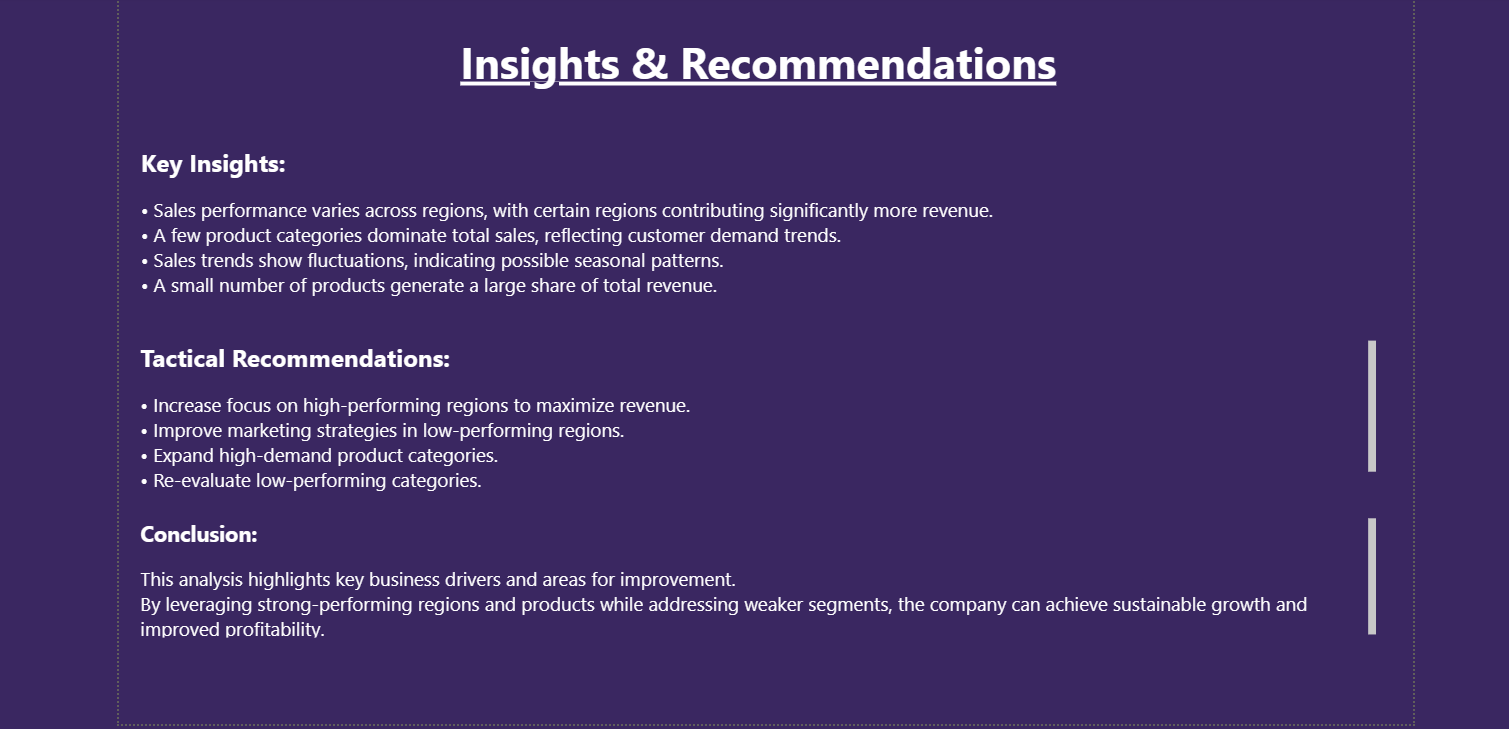

Layout of this report page (visuals, bound fields, positions):
{"tool":"powerbi","page":{"name":"Insights & Recommendations","canvas":[1280,720],"ordinal":1},"visuals":[{"type":"textbox","box":[16,32,1232,80],"z":0},{"type":"textbox","box":[16,144,1232,160],"z":1},{"type":"textbox","box":[16,336,1232,160],"z":2},{"type":"textbox","box":[16,512,1232,128],"z":3}]}

Visuals, with their boxes on the page's 1280x720 design canvas (x1, y1, x2, y2). These are canvas units, not pixel positions in the 1509x729 screenshot, which may show the page scaled, cropped or inside an application window:
textbox: box=[16, 32, 1248, 112]
textbox: box=[16, 144, 1248, 304]
textbox: box=[16, 336, 1248, 496]
textbox: box=[16, 512, 1248, 640]
